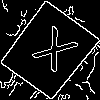X: (24, 25, 80, 82)
